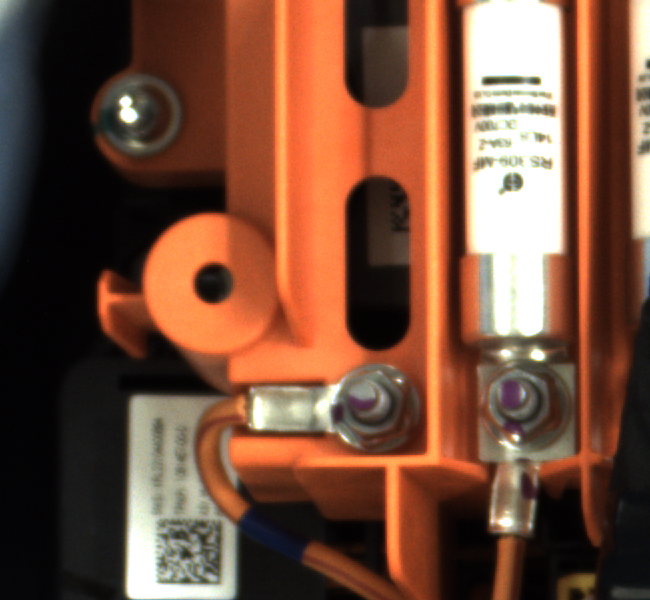screw_m: (96, 68, 190, 159)
screw_s: (309, 348, 436, 466), (474, 354, 576, 463)
